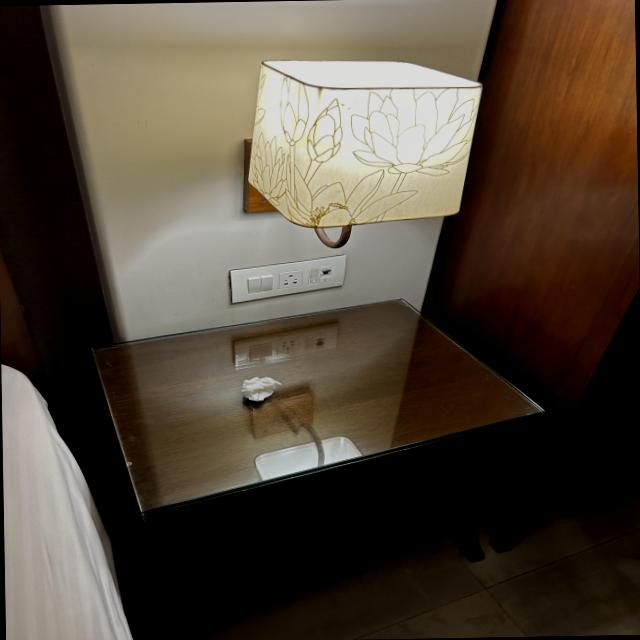mess: (52, 294, 640, 487)
